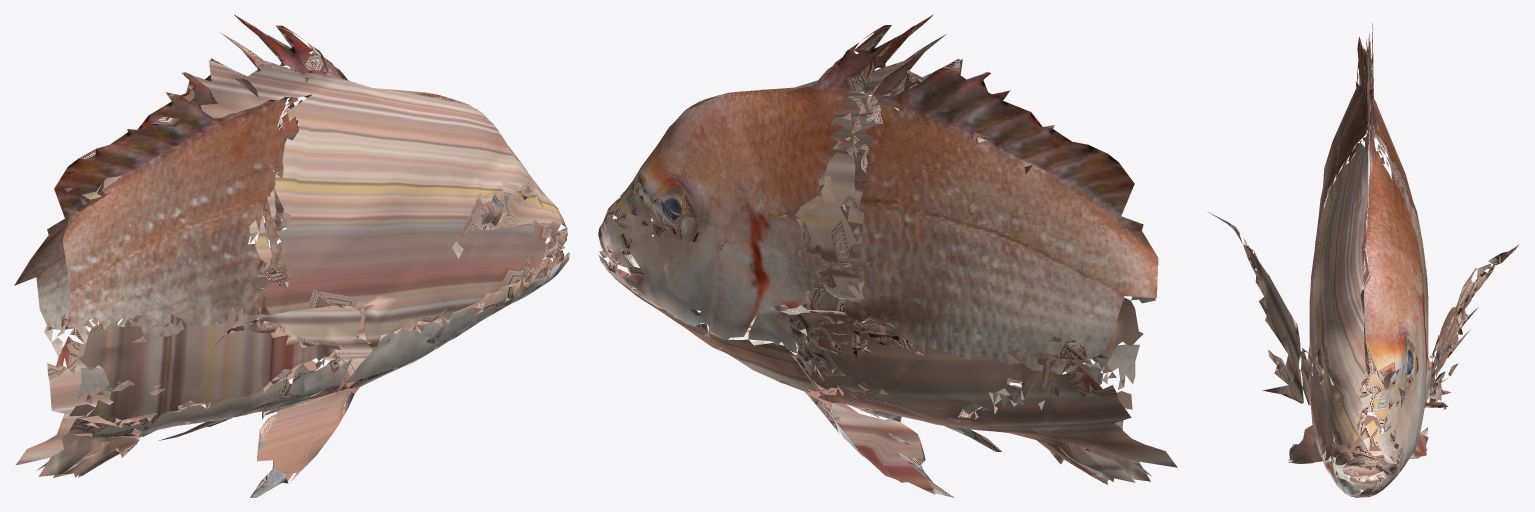
Rendered from crimson_a.glb.
The picture shows the model from 3 angles, left to right: view 1: azimuth 30°, elevation 25°; view 2: azimuth 150°, elevation 25°; view 3: azimuth 270°, elevation 25°; orthographic projection. The views are drawn at different scales.
Parts seen in each view (by area): view 1: crimson_a; view 2: crimson_a; view 3: crimson_a.
Boxes of the visible parts, bbox=[...] form: crimson_a: bbox=[14, 14, 569, 497]; crimson_a: bbox=[598, 14, 1177, 497]; crimson_a: bbox=[1207, 23, 1520, 497].
Size of the model in its own units: 0.3347 by 0.2593 by 0.1645.
Materials: 1 (1 with a texture image).
